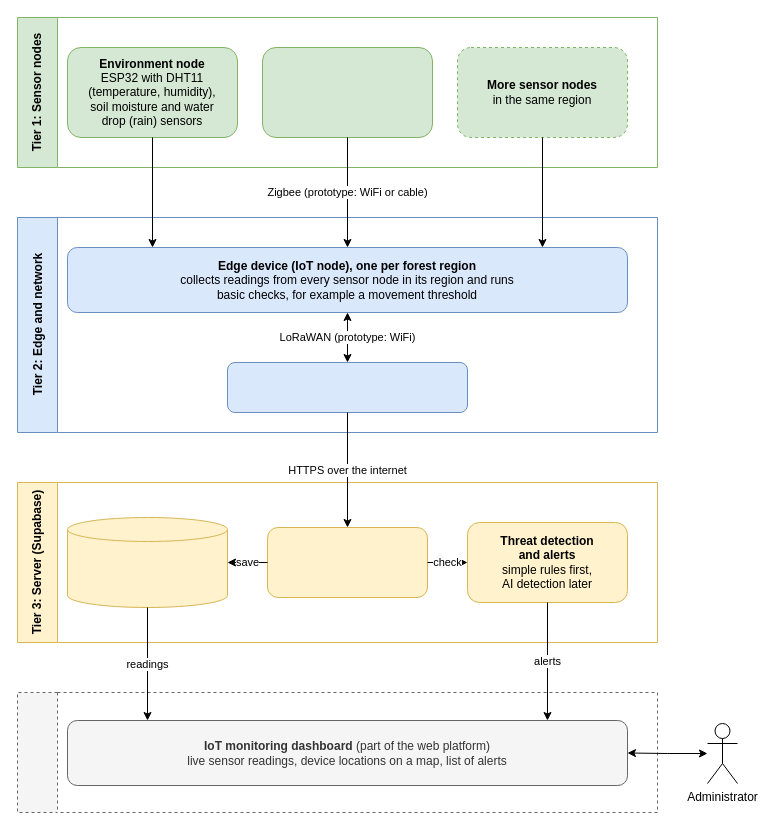
The diagram is 775 pixels wide and 830 high, and some of its shapes have lost their labels. Each missing label, with the box of its shape:
AP router / gateway connects the edge device to the internet: (226, 362, 468, 412)
Ingest API receives readings from edge devices: (266, 526, 428, 598)
Other subsystems: (16, 692, 658, 812)
PostgreSQL sensor readings, devices, alerts: (66, 516, 228, 608)
Threat node ESP32 with PIR (movement), MPU 6050 (tilt, shaking) and GPS: (262, 46, 432, 138)
